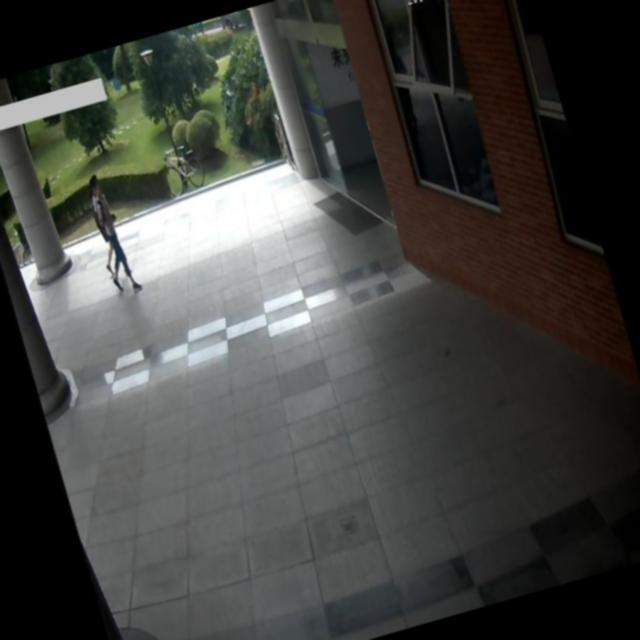person: (88, 170, 145, 300)
